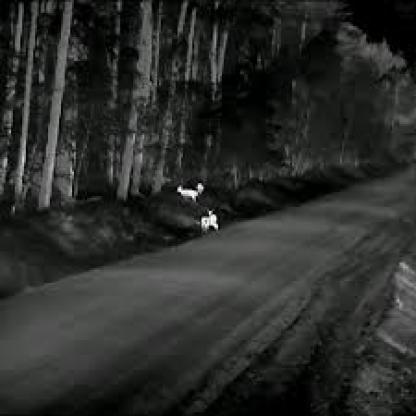rehkitze: (174, 181, 206, 200), (197, 212, 222, 232)
